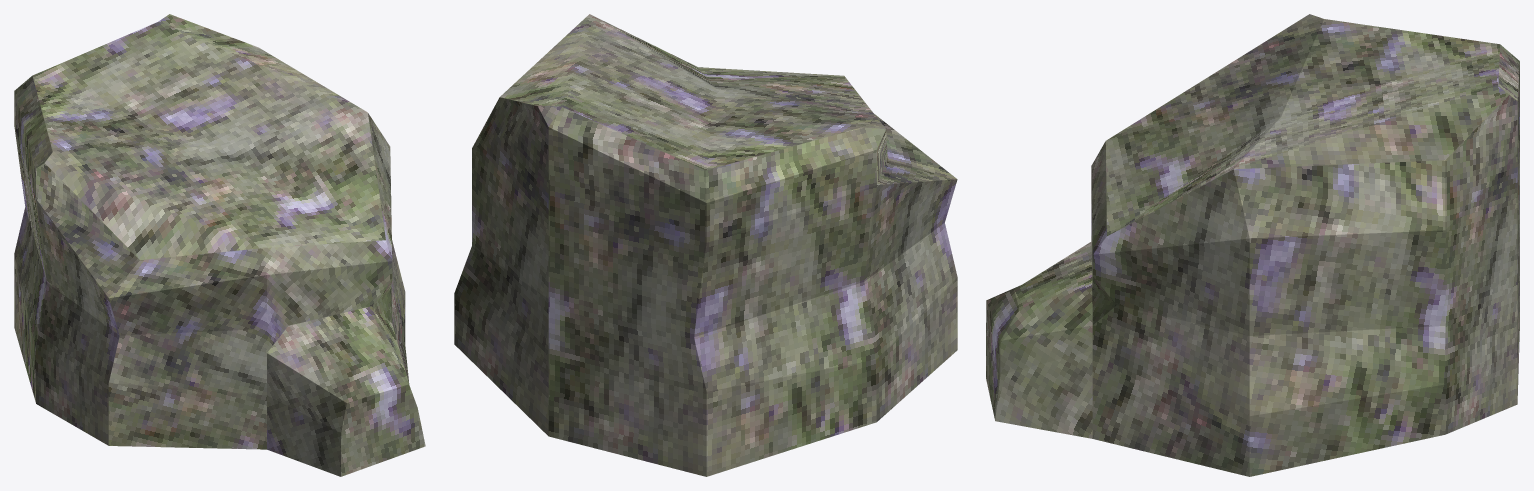
Rendered from sm_rock_2.gltf.
3 renders of one model, left to right at view 1: azimuth 30°, elevation 25°; view 2: azimuth 150°, elevation 25°; view 3: azimuth 270°, elevation 25°, orthographic. The views are drawn at different scales.
Visible parts, largest first — view 1: Cube.001; view 2: Cube.001; view 3: Cube.001.
Part boxes in pixels (x1,y1,x2,y2): Cube.001: [14, 14, 425, 476]; Cube.001: [454, 14, 957, 476]; Cube.001: [986, 14, 1519, 476].
Bounding box in the file's own units: 4.93 × 3.95 × 6.01.
1 material, 1 textured.
